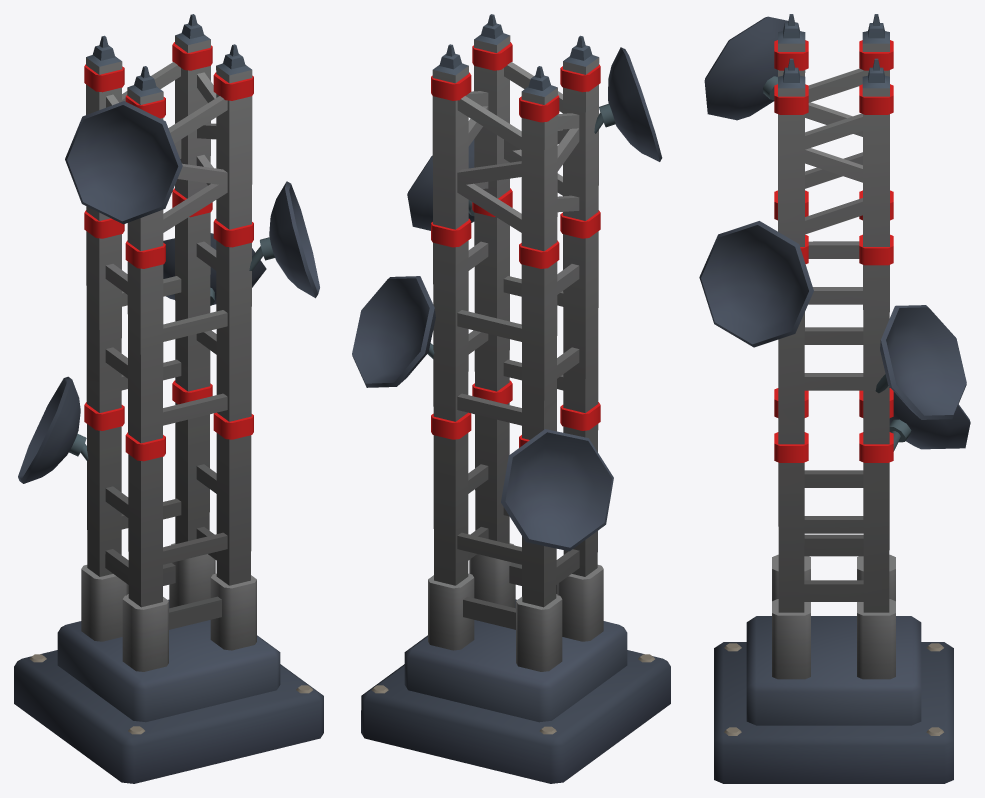
The model's file is SignalTower_1_A.glb.
The picture shows the model from 3 angles, left to right: view 1: azimuth 30°, elevation 25°; view 2: azimuth 150°, elevation 25°; view 3: azimuth 270°, elevation 25°; orthographic projection. The views are drawn at different scales.
Visible parts, largest first — view 1: SignalTower_1_A; view 2: SignalTower_1_A; view 3: SignalTower_1_A.
Part boxes in pixels (x1,y1,x2,y2): SignalTower_1_A: [14, 14, 323, 783]; SignalTower_1_A: [352, 14, 670, 783]; SignalTower_1_A: [699, 14, 970, 783].
Bounding box in the file's own units: 1.18 × 3.09 × 1.09.
Materials: 2 (2 with a texture image).
